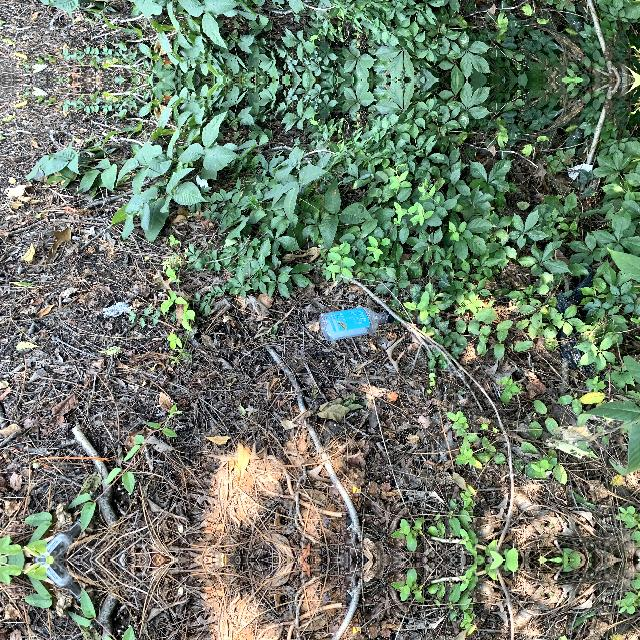Plastic: (313, 303, 397, 345)
